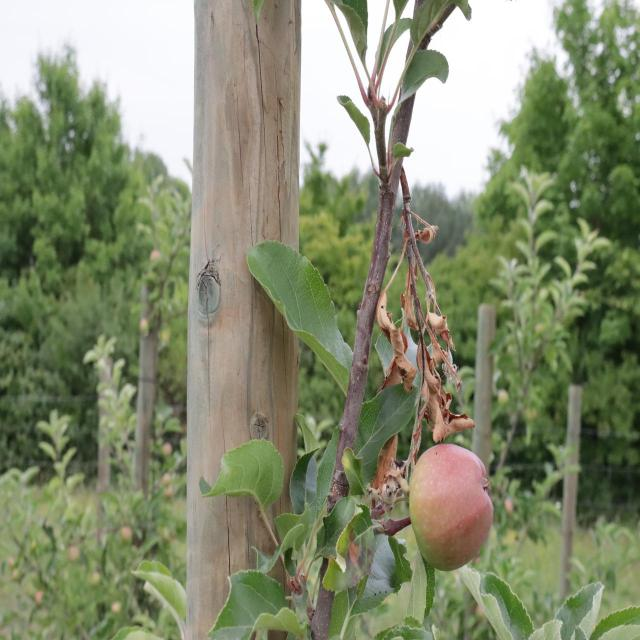-FireBlight-: (364, 172, 478, 513)
